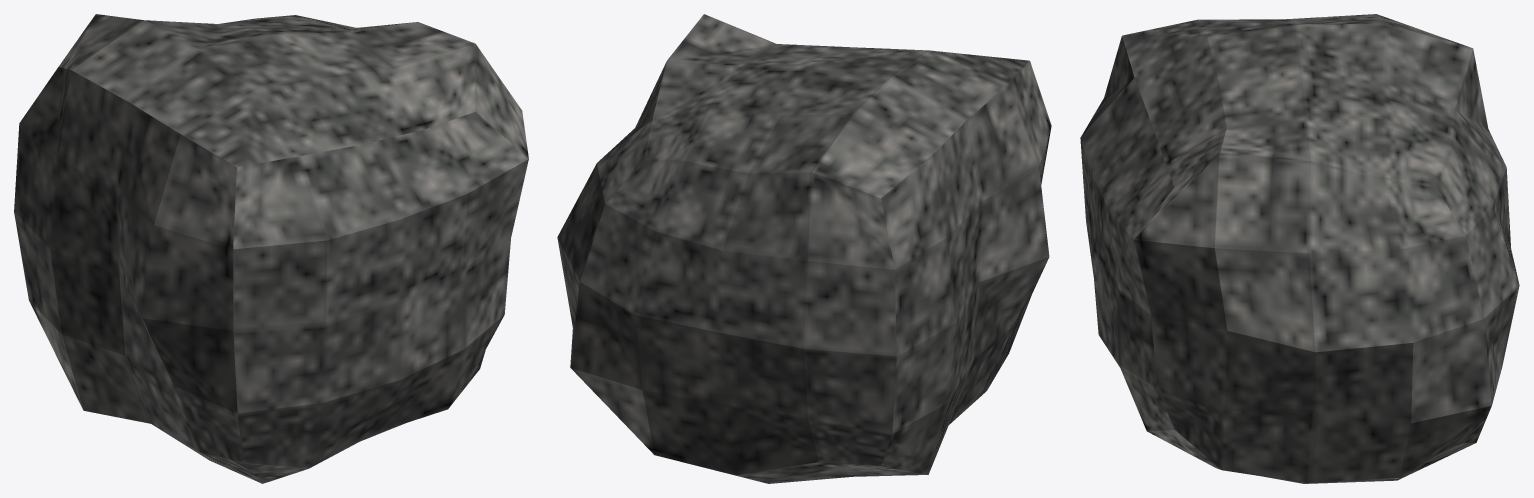
The model's file is SM_EC_Rock_42.fbx.
3 renders of one model, left to right at view 1: azimuth 30°, elevation 25°; view 2: azimuth 150°, elevation 25°; view 3: azimuth 270°, elevation 25°, orthographic. The views are drawn at different scales.
Parts seen in each view (by area): view 1: SM_EC_Rock_42; view 2: SM_EC_Rock_42; view 3: SM_EC_Rock_42.
Part boxes in pixels (bbox=[...]): SM_EC_Rock_42: bbox=[14, 14, 528, 483]; SM_EC_Rock_42: bbox=[557, 14, 1051, 483]; SM_EC_Rock_42: bbox=[1080, 14, 1519, 483].
Bounding box in the file's own units: 0.7684 × 0.7234 × 0.7211.
